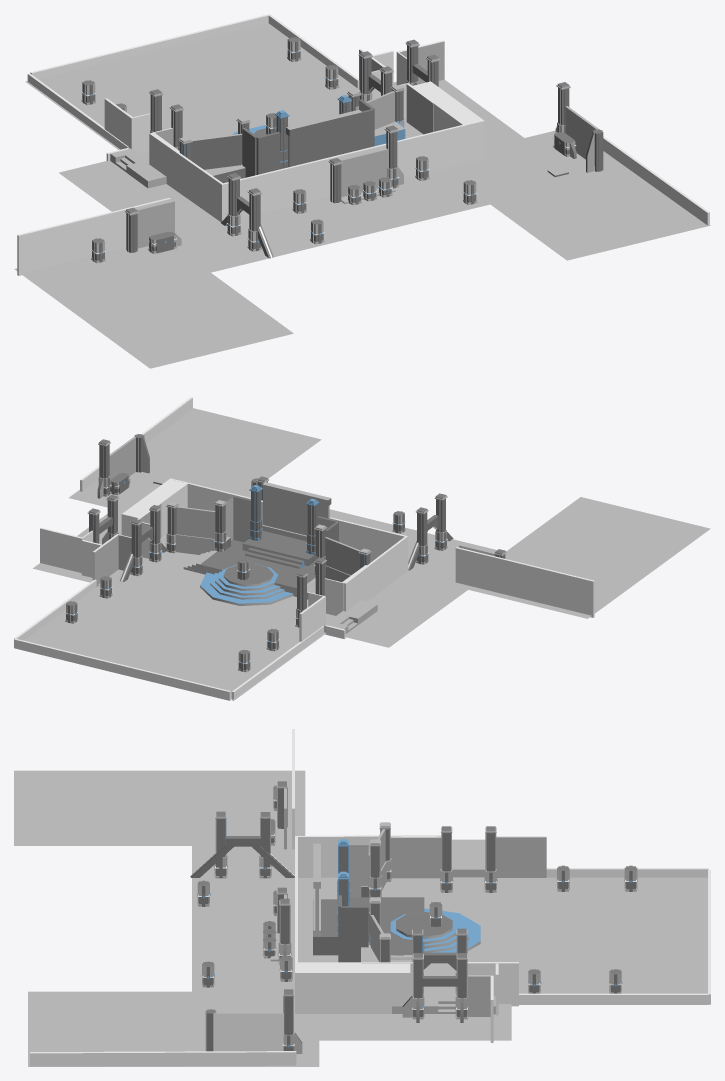
The picture shows the model from 3 angles, top to bottom: view 1: azimuth 30°, elevation 25°; view 2: azimuth 150°, elevation 25°; view 3: azimuth 270°, elevation 25°; orthographic projection. The views are drawn at different scales.
Visible parts, largest first — view 1: Plane002, Box022, Plane007, Box073, Cylinder064; view 2: Plane002, Plane007, Box022, Box073, Cylinder064; view 3: Plane002, Plane007, Box022, Box073, Cylinder064.
Boxes of the visible parts, bbox=[...] form: Plane002: bbox=[14, 39, 710, 368]; Box022: bbox=[17, 14, 709, 275]; Plane007: bbox=[25, 23, 444, 188]; Box073: bbox=[82, 37, 603, 262]; Cylinder064: bbox=[82, 50, 560, 254]; Plane002: bbox=[33, 408, 710, 672]; Plane007: bbox=[24, 530, 377, 699]; Box022: bbox=[14, 397, 594, 700]; Box073: bbox=[66, 434, 505, 671]; Cylinder064: bbox=[68, 481, 446, 664]; Plane002: bbox=[14, 770, 637, 1066]; Plane007: bbox=[298, 858, 707, 1014]; Box022: bbox=[30, 729, 710, 1066]; Box073: bbox=[190, 781, 637, 1051]; Cylinder064: bbox=[197, 797, 637, 1047].
Size of the model in its own units: 301 by 38.75 by 299.
